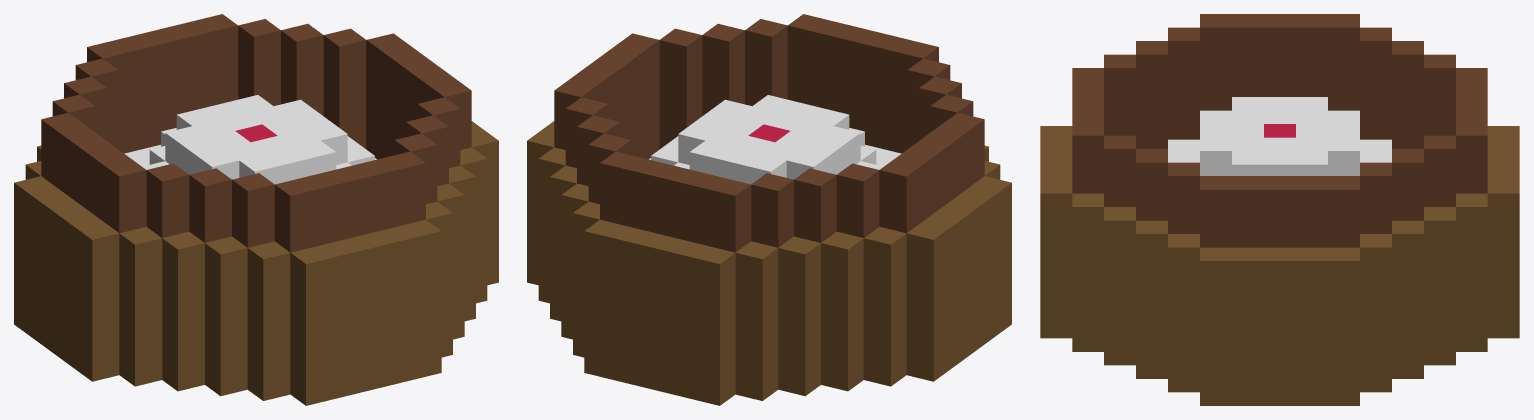
File: Pao_complete.fbx
3 renders of one model, left to right at view 1: azimuth 30°, elevation 25°; view 2: azimuth 150°, elevation 25°; view 3: azimuth 270°, elevation 25°, orthographic. The views are drawn at different scales.
Visible parts, largest first — view 1: pao_complete:pao_complete; view 2: pao_complete:pao_complete; view 3: pao_complete:pao_complete.
Boxes of the visible parts, x1,y1,x2,y2 form: pao_complete:pao_complete: (14,14,498,405); pao_complete:pao_complete: (527,14,1011,405); pao_complete:pao_complete: (1040,14,1519,405).
Size of the model in its own units: 15 by 7 by 15.
